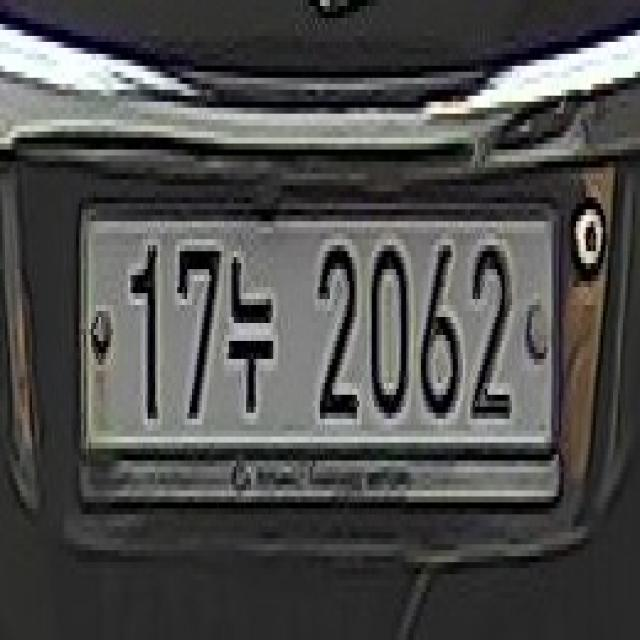0: (366, 245, 414, 425)
1: (123, 227, 167, 443)
2: (466, 227, 520, 437), (313, 239, 364, 437)
6: (418, 233, 466, 431)
7: (172, 233, 222, 437)
license_plate: (74, 192, 564, 520)
nu: (226, 233, 274, 431)
